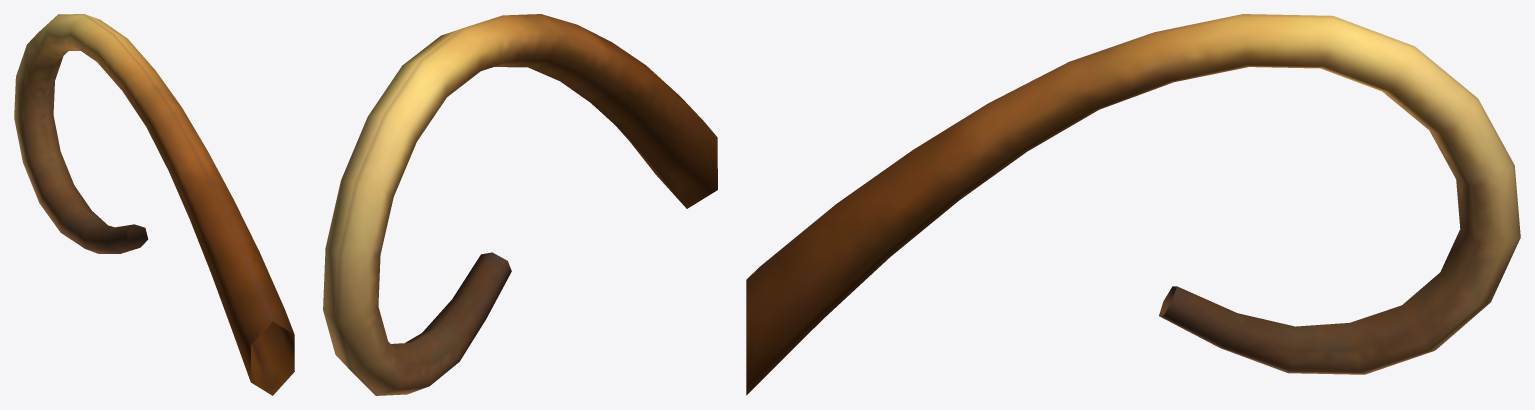
The model's file is sujeta.obj.
3 renders of one model, left to right at view 1: azimuth 30°, elevation 25°; view 2: azimuth 150°, elevation 25°; view 3: azimuth 270°, elevation 25°, orthographic. The views are drawn at different scales.
Parts seen in each view (by area): view 1: Puerta.004; view 2: Puerta.004; view 3: Puerta.004.
Boxes of the visible parts, x1,y1,x2,y2 form: Puerta.004: (14, 14, 294, 395); Puerta.004: (323, 14, 717, 395); Puerta.004: (746, 14, 1520, 395).
Size of the model in its own units: 0.0421 by 0.2239 by 0.4115.
1 material, 1 textured.
